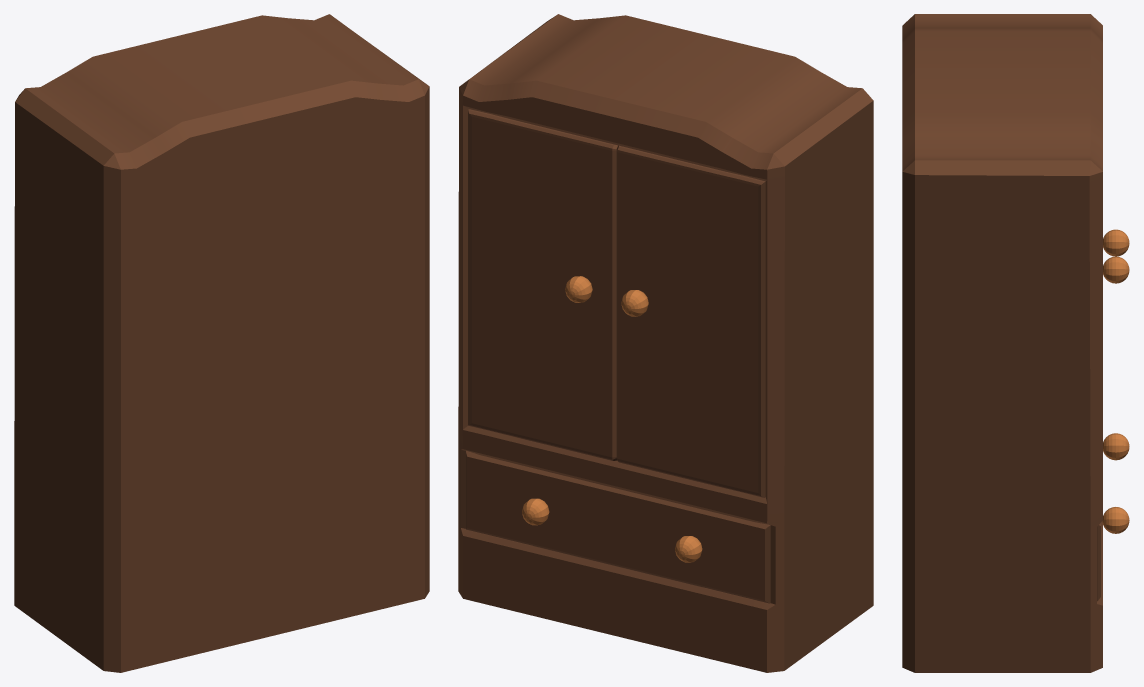
The model's file is Wardrobe.fbx.
3 renders of one model, left to right at view 1: azimuth 30°, elevation 25°; view 2: azimuth 150°, elevation 25°; view 3: azimuth 270°, elevation 25°, orthographic.
Parts seen in each view (by area): view 1: Wardrobe_Body; view 2: Wardrobe_Body, Wardrobe_Door2, Wardrobe_Door1, Wardrobe_Drawer; view 3: Wardrobe_Body, Wardrobe_Door_HAndle1, Wardrobe_Door_HAndle2, pSphere3, pSphere2.
Part boxes in pixels (<box>): Wardrobe_Body: <box>14,14,429,672</box>; Wardrobe_Body: <box>458,14,873,672</box>; Wardrobe_Door2: <box>616,145,765,497</box>; Wardrobe_Door1: <box>468,109,617,460</box>; Wardrobe_Drawer: <box>466,451,770,603</box>; Wardrobe_Body: <box>902,14,1102,672</box>; Wardrobe_Door_HAndle1: <box>1103,256,1129,283</box>; Wardrobe_Door_HAndle2: <box>1103,229,1129,256</box>; pSphere3: <box>1103,433,1129,460</box>; pSphere2: <box>1102,507,1129,533</box>.
Size of the model in its own units: 1.85 by 2.87 by 1.13.
